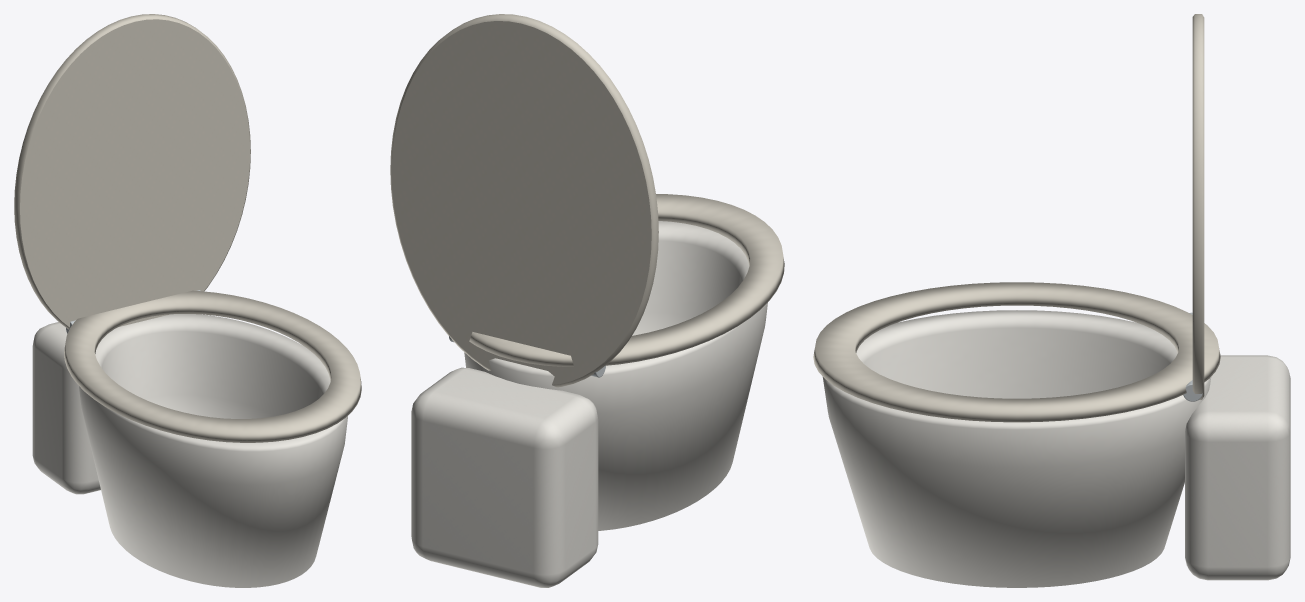
3 renders of one model, left to right at view 1: azimuth 30°, elevation 25°; view 2: azimuth 150°, elevation 25°; view 3: azimuth 270°, elevation 25°, orthographic. The views are drawn at different scales.
Parts seen in each view (by area): view 1: WC | raised lid, WC | open sanitary bowl, WC | separate seat ring, WC | rear wall connection; view 2: WC | raised lid, WC | rear wall connection, WC | open sanitary bowl, WC | separate seat ring; view 3: WC | open sanitary bowl, WC | separate seat ring, WC | rear wall connection, WC | raised lid.
Boxes of the visible parts, left/top/right/bottom form: WC | raised lid: left=14, top=14, right=250, bottom=329; WC | open sanitary bowl: left=79, top=314, right=348, bottom=587; WC | separate seat ring: left=64, top=290, right=361, bottom=442; WC | rear wall connection: left=32, top=322, right=100, bottom=494; WC | raised lid: left=390, top=14, right=658, bottom=387; WC | rear wall connection: left=411, top=367, right=598, bottom=587; WC | open sanitary bowl: left=464, top=221, right=767, bottom=530; WC | separate seat ring: left=469, top=194, right=784, bottom=366; WC | open sanitary bowl: left=822, top=310, right=1211, bottom=587; WC | separate seat ring: left=813, top=282, right=1220, bottom=422; WC | rear wall connection: left=1185, top=355, right=1290, bottom=580; WC | raised lid: left=1192, top=14, right=1204, bottom=399.
Size of the model in its own units: 0.432 by 0.8132 by 0.6681.
3 materials, 3 textured.
